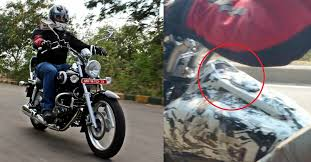helmet: (48, 3, 75, 34)
